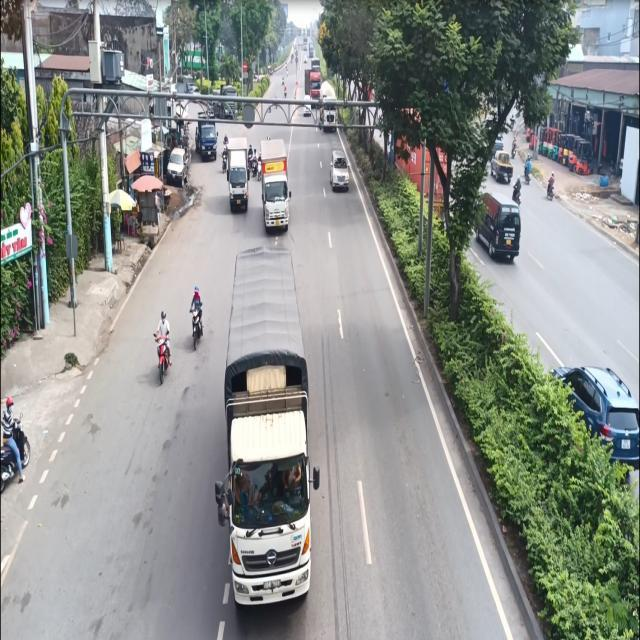car: (549, 365, 639, 471), (473, 191, 521, 262), (322, 146, 359, 199)
motorcycle: (153, 333, 172, 384), (188, 303, 203, 350)
person: (1, 395, 25, 483), (153, 310, 171, 366), (189, 285, 203, 329)
truck: (217, 248, 326, 633), (254, 139, 306, 245), (220, 134, 256, 223)
